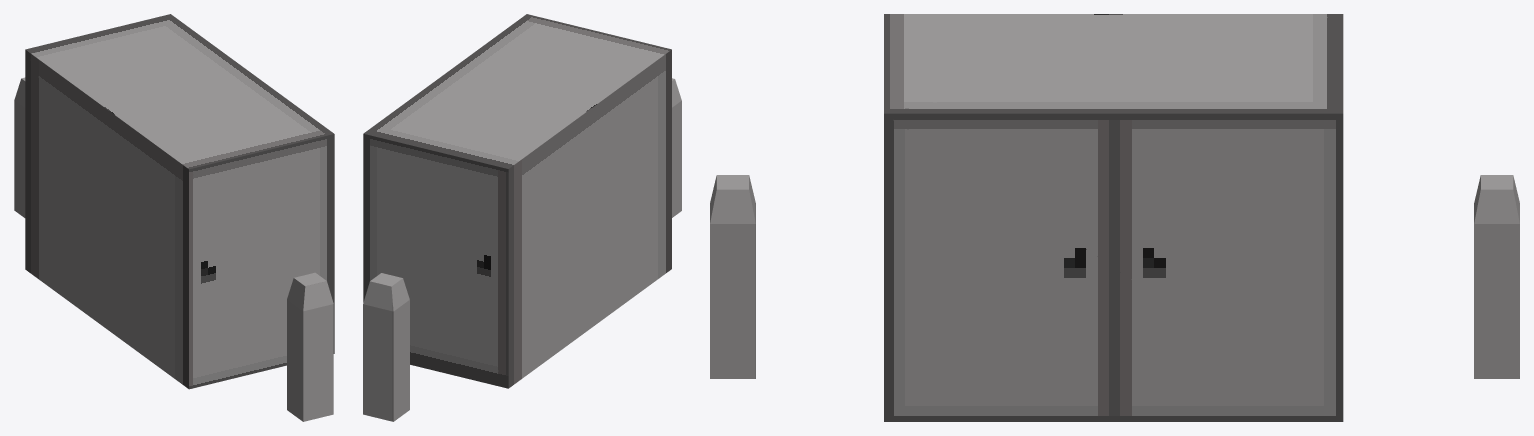
Rendered from POWER BOX.fbx.
3 renders of one model, left to right at view 1: azimuth 30°, elevation 25°; view 2: azimuth 150°, elevation 25°; view 3: azimuth 270°, elevation 25°, orthographic. The views are drawn at different scales.
Visible parts, largest first — view 1: POWER_BOX; view 2: POWER_BOX; view 3: POWER_BOX.
Boxes of the visible parts, x1=… form: POWER_BOX: x1=14, y1=14, x2=334, y2=421; POWER_BOX: x1=363, y1=14, x2=681, y2=421; POWER_BOX: x1=710, y1=14, x2=1519, y2=421.
Bounding box in the file's own units: 180 × 259 × 618.
Materials: 1 (1 with a texture image).
